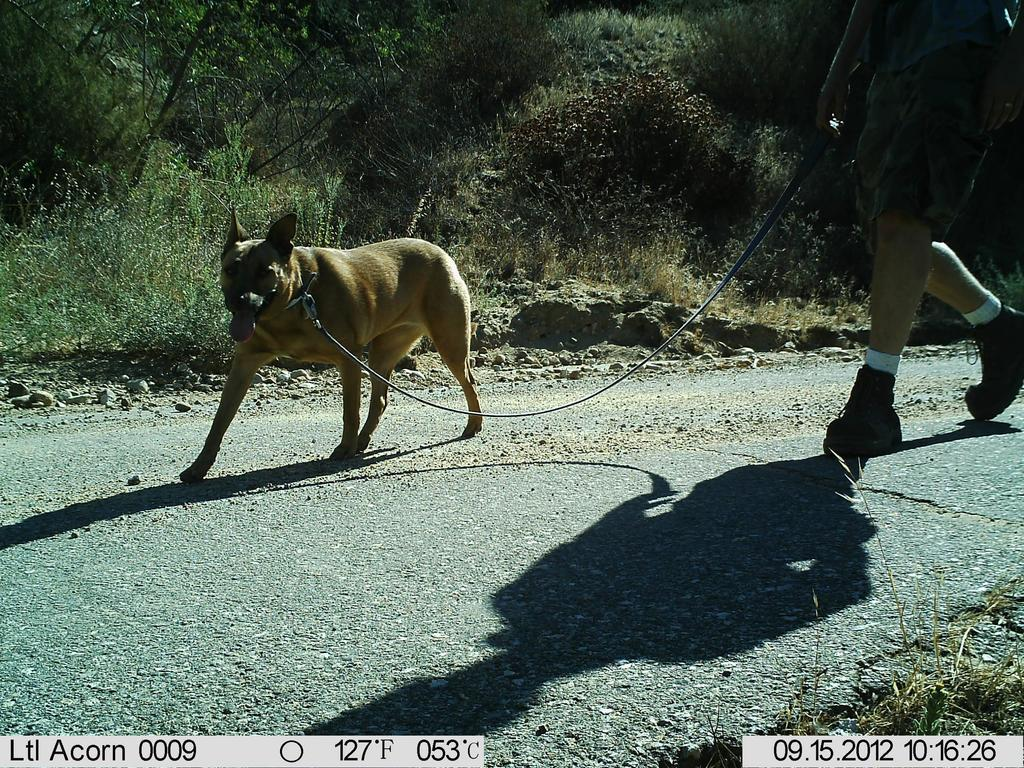dog: (163, 197, 500, 500)
